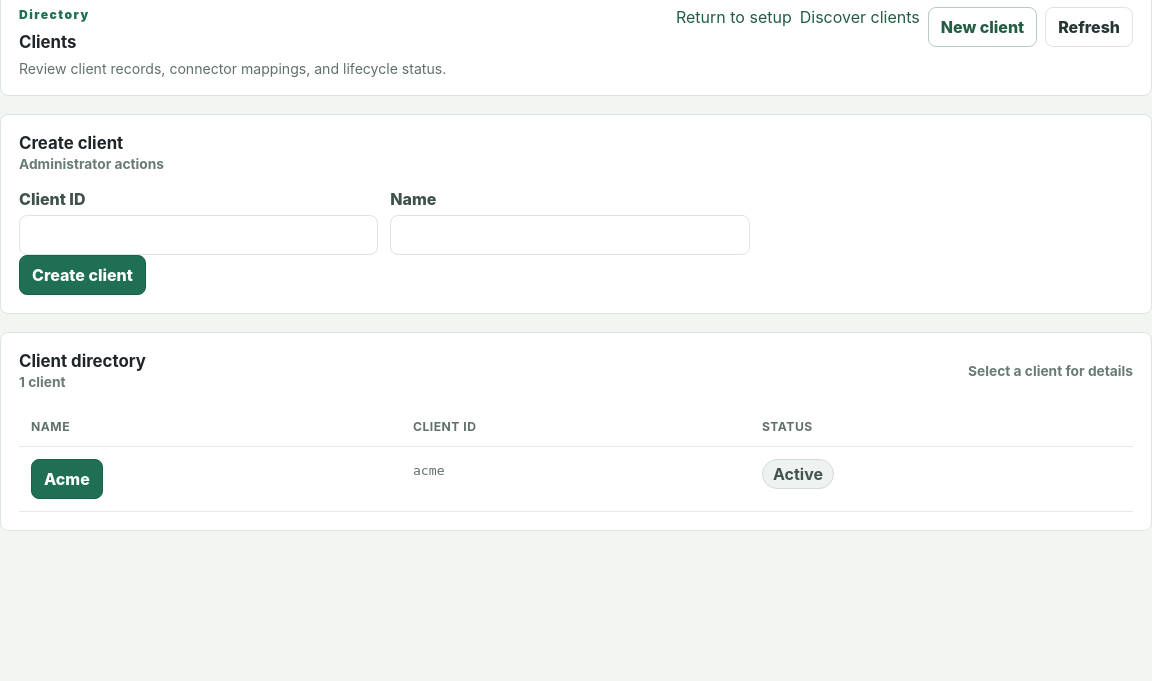
Test: Clients › renders stale and fallback environment values and handles inventory syncs
The width and height of the screenshot is (1152, 681).
Click the button "Acme".
click(67, 479)  # box top-left (31, 459), bottom-right (103, 499)
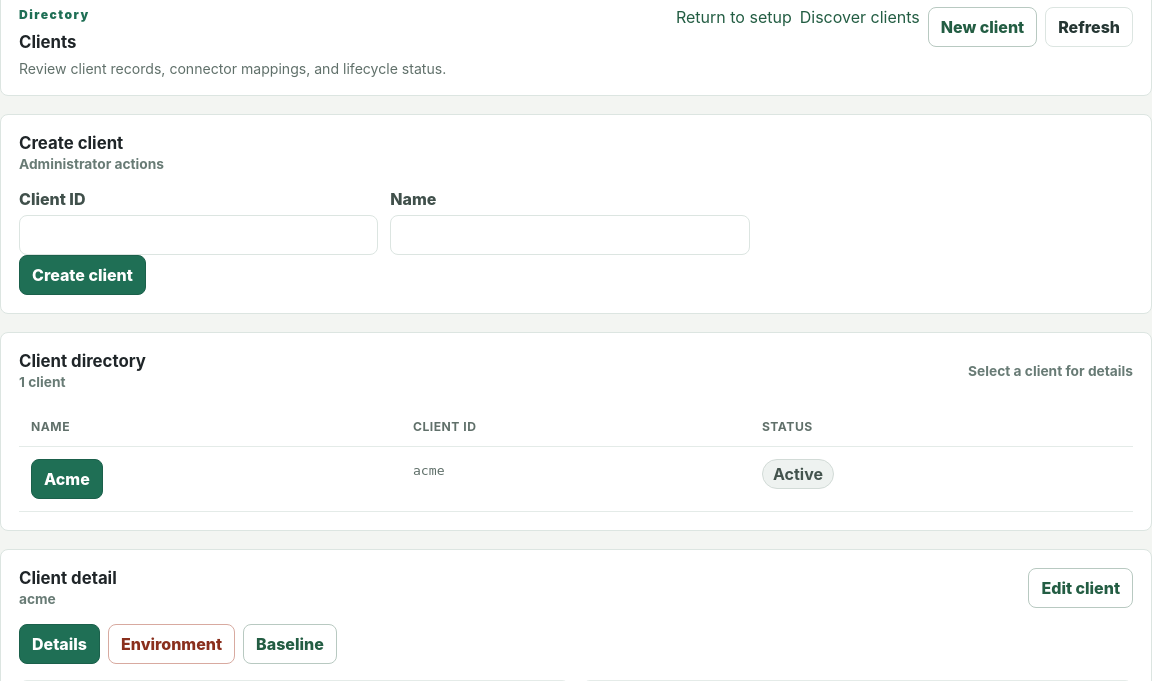
Click the tab "Environment".
click(172, 644)  # box top-left (108, 624), bottom-right (235, 664)
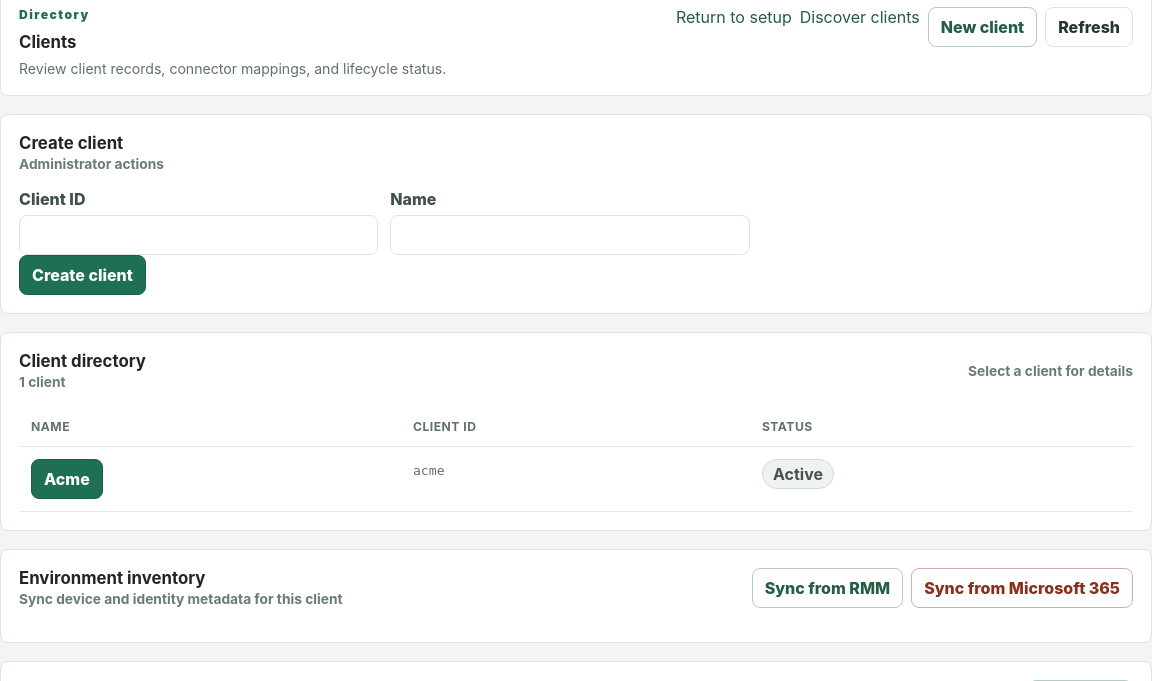
Click the button "Sync from RMM".
click(827, 588)  # box top-left (752, 568), bottom-right (903, 608)
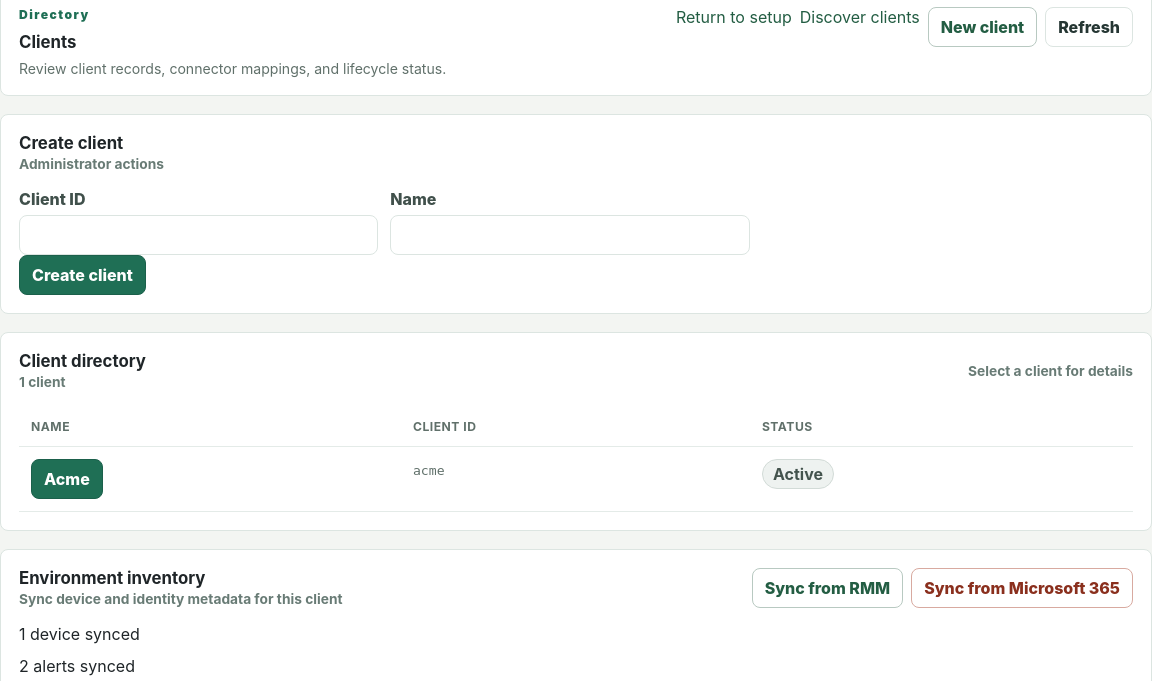
Now the text "1 device synced" is shown, box top-left (19, 624), bottom-right (140, 644)
Now the text "2 alerts synced" is shown, box top-left (19, 656), bottom-right (135, 676)
Click the button "Sync from Microsoft 365".
click(1022, 588)  # box top-left (911, 568), bottom-right (1133, 608)
(page scrolled)
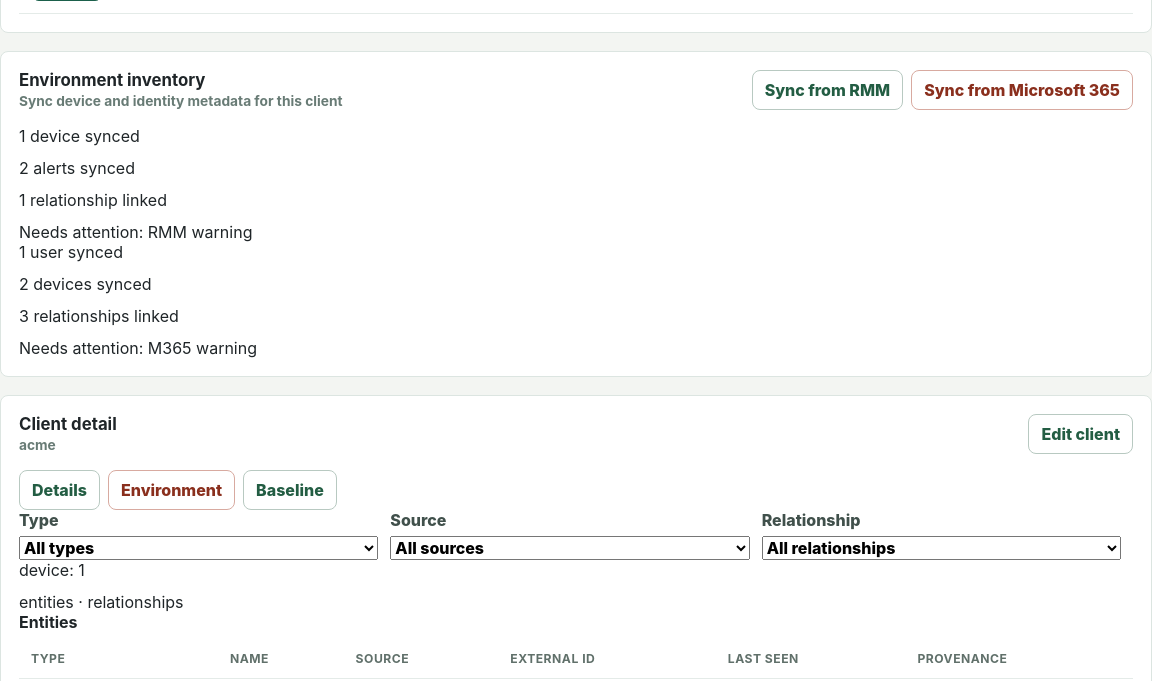
Now the text "1 user synced" is shown, box top-left (19, 242), bottom-right (123, 262)
Now the text "2 devices synced" is shown, box top-left (19, 274), bottom-right (152, 294)
Now the text "Needs attention: M365 warning" is shown, box top-left (19, 338), bottom-right (257, 358)
